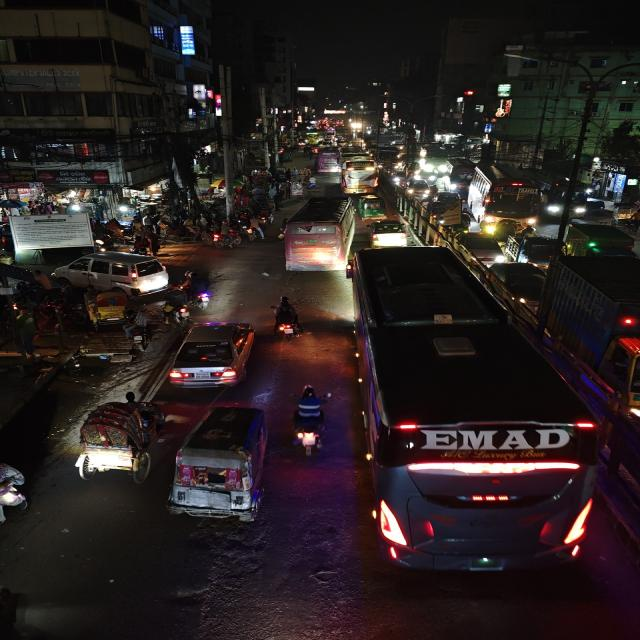bus: (353, 243, 597, 576), (278, 194, 360, 274), (466, 164, 540, 228), (538, 180, 590, 219), (339, 154, 381, 192), (314, 148, 342, 175)
car: (167, 318, 258, 389), (53, 251, 174, 293), (528, 220, 640, 257), (490, 260, 548, 310), (455, 230, 505, 266), (366, 218, 411, 246), (405, 179, 432, 199)
cng: (166, 404, 272, 526), (356, 194, 389, 222)
motorcycle: (286, 383, 333, 457), (0, 457, 30, 525), (269, 294, 306, 343), (186, 274, 220, 312), (161, 287, 192, 323), (202, 224, 238, 250)
pickup_van: (501, 232, 569, 269)
rickshaw: (164, 404, 274, 526), (67, 396, 164, 482), (84, 285, 140, 329), (138, 218, 204, 255), (96, 227, 152, 253)
truck: (548, 257, 640, 418), (0, 212, 100, 259), (558, 220, 638, 257), (420, 194, 472, 230)
